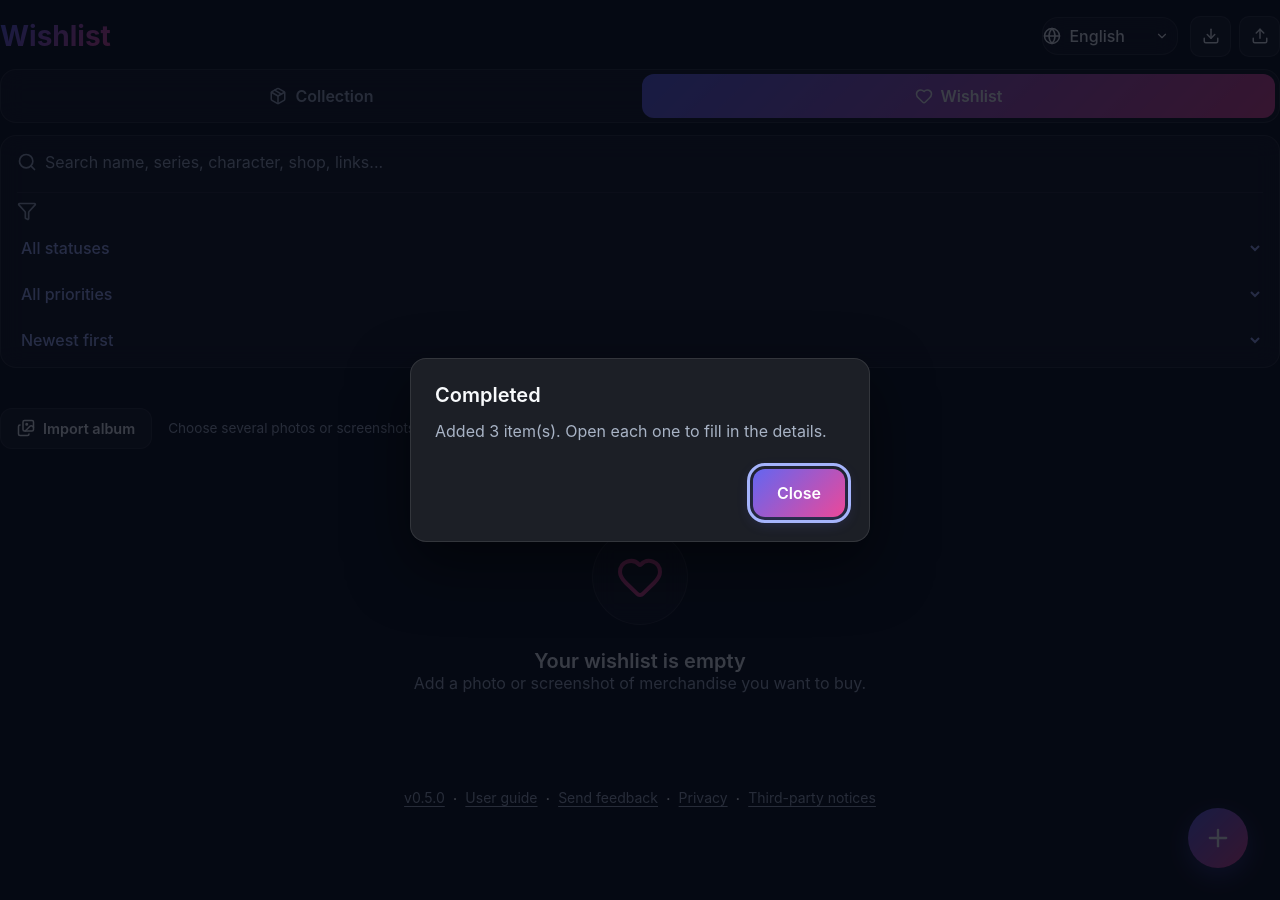
Scenario: Wishlist › says how many entries an album import added
The image size is (1280, 900).
Expected: the dialog "Completed" shows "Added 3 item(s). Open each one to fill in the details.", [435, 421, 827, 441]
Step 1. Click the button "Close" → click(799, 493), box [753, 469, 845, 517]
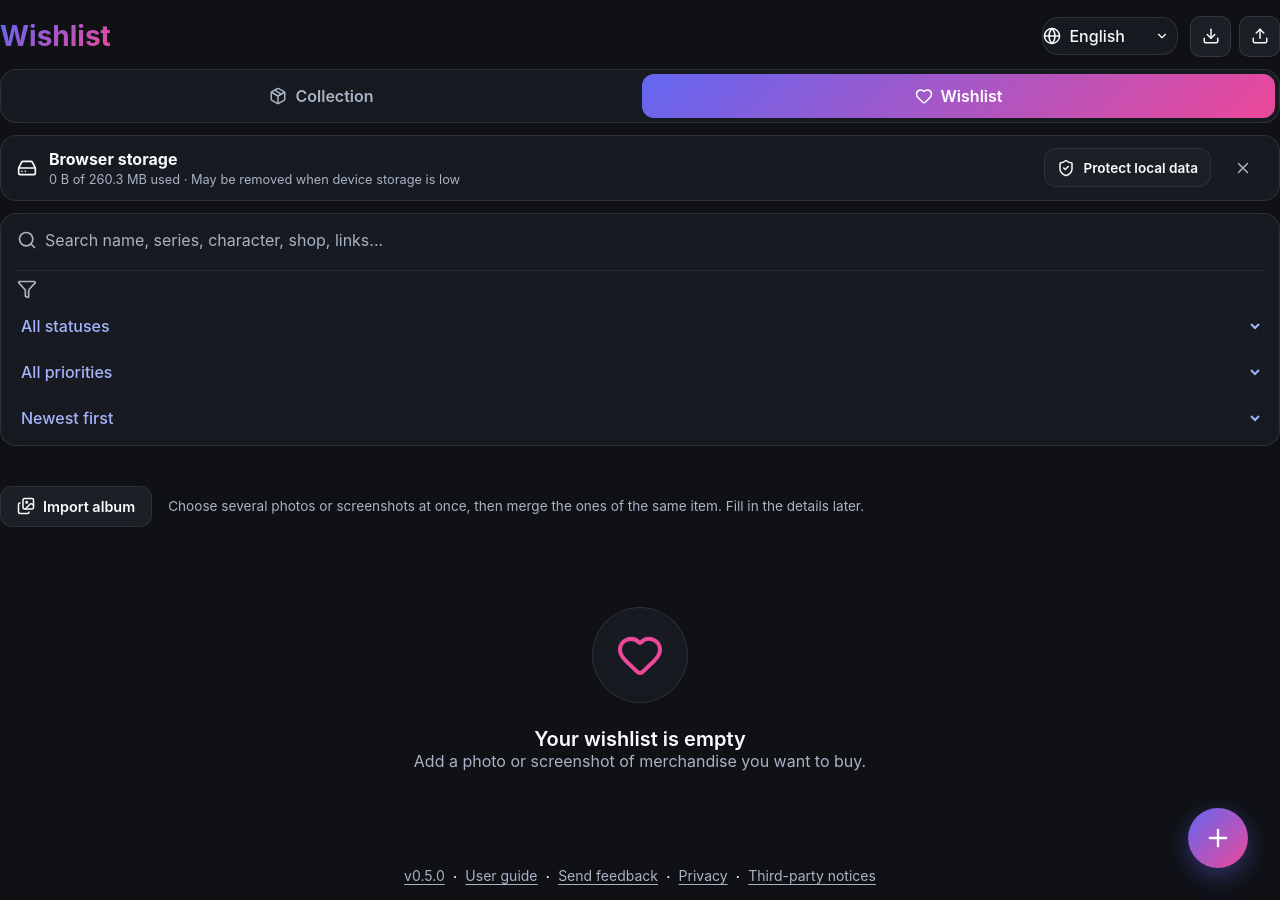
Expected: the heading "Completed" is gone
